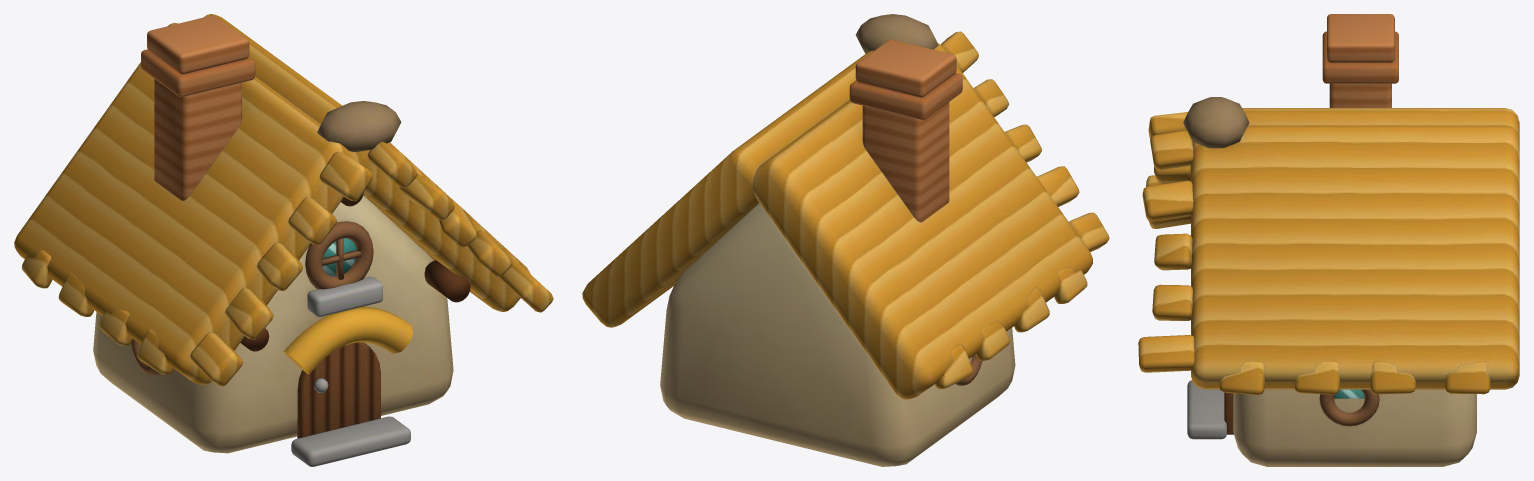
File: hut_3_high.glb
3 views of the same model, side by side, from view 1: azimuth 30°, elevation 25°; view 2: azimuth 150°, elevation 25°; view 3: azimuth 270°, elevation 25° (orthographic). The views are drawn at different scales.
Visible parts, largest first — view 1: hut_3; view 2: hut_3; view 3: hut_3.
Boxes of the visible parts, x1=… form: hut_3: x1=14, y1=14, x2=553, y2=466; hut_3: x1=582, y1=14, x2=1109, y2=466; hut_3: x1=1138, y1=14, x2=1519, y2=466.
Size of the model in its own units: 1.45 by 1.38 by 1.35.
Materials: 1 (1 with a texture image).
